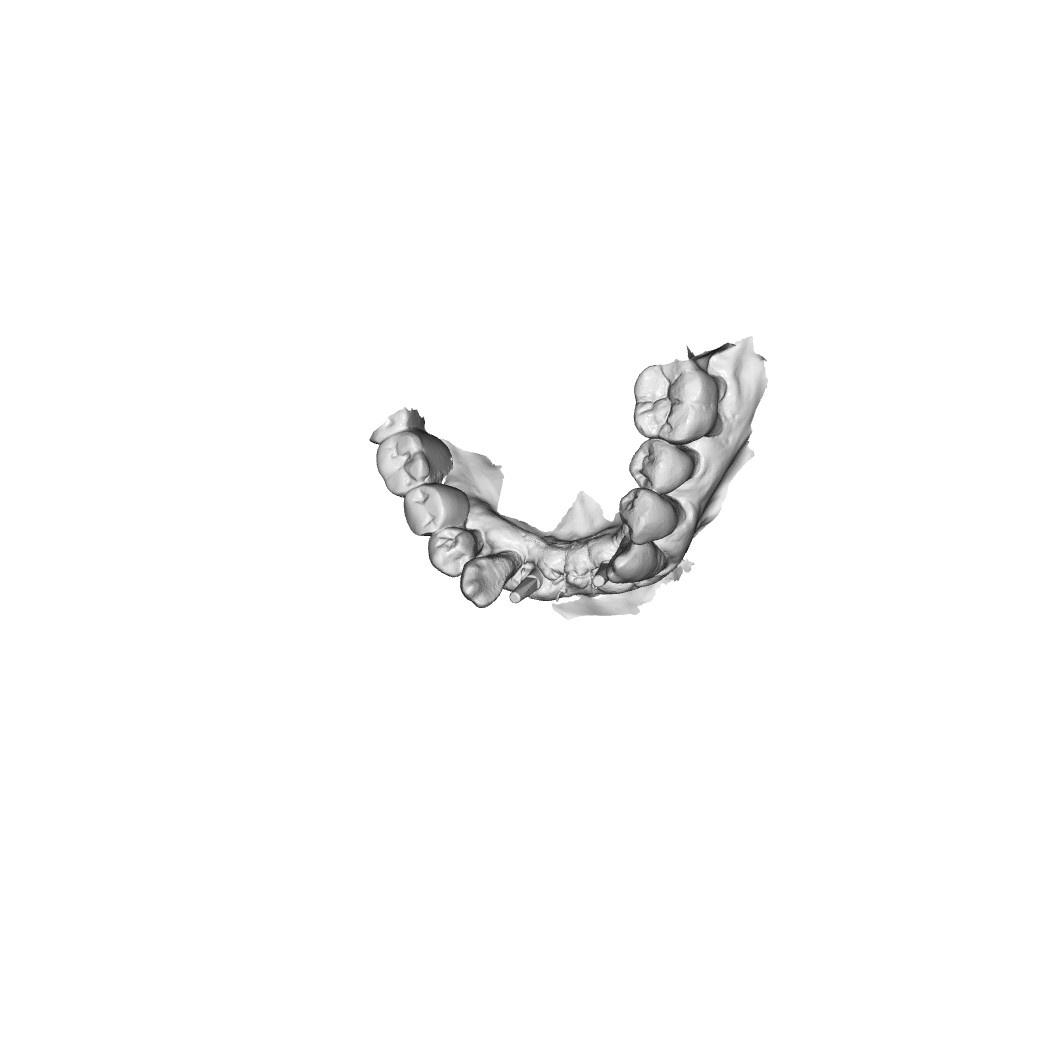abutment: (506, 572, 547, 608), (592, 562, 611, 590)
canine: (458, 553, 510, 608), (613, 538, 667, 585)
molar: (633, 364, 721, 445), (377, 429, 450, 496)
premolar: (402, 483, 471, 538), (630, 440, 698, 493), (615, 490, 681, 544), (426, 526, 479, 577)
